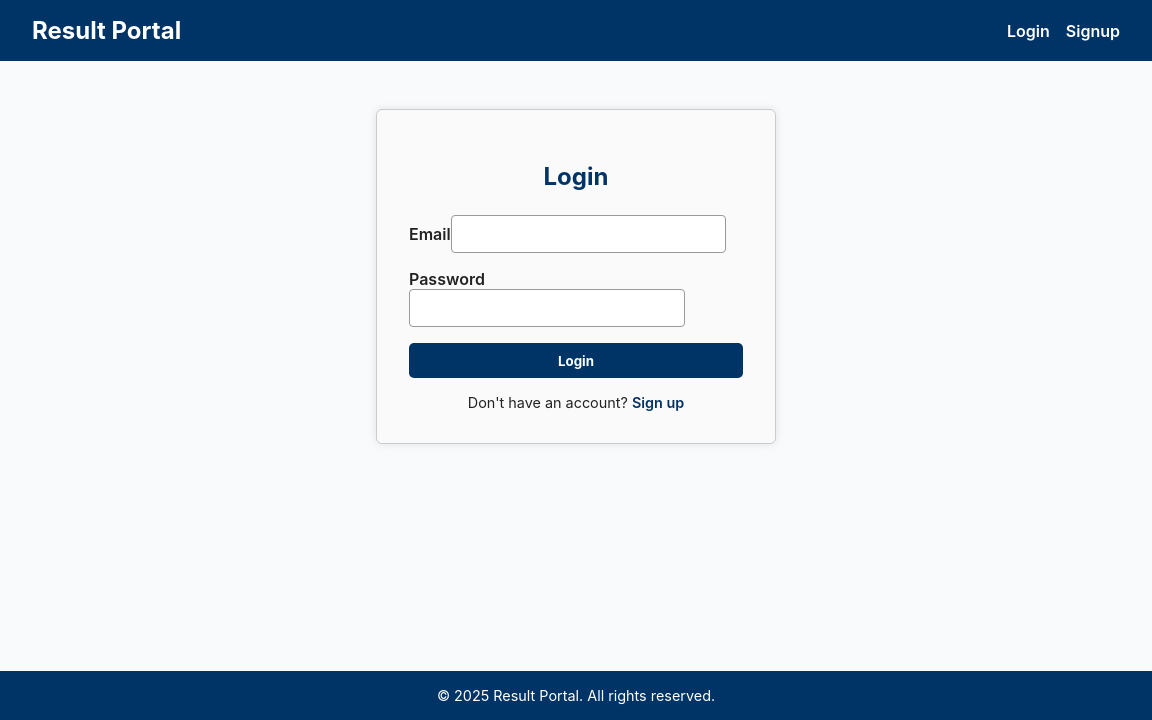
Login Component › shows error message on login failure
In the field labelled "Email": {"x": 588, "y": 234} [451,215,726,253], type "wrong@example.com"
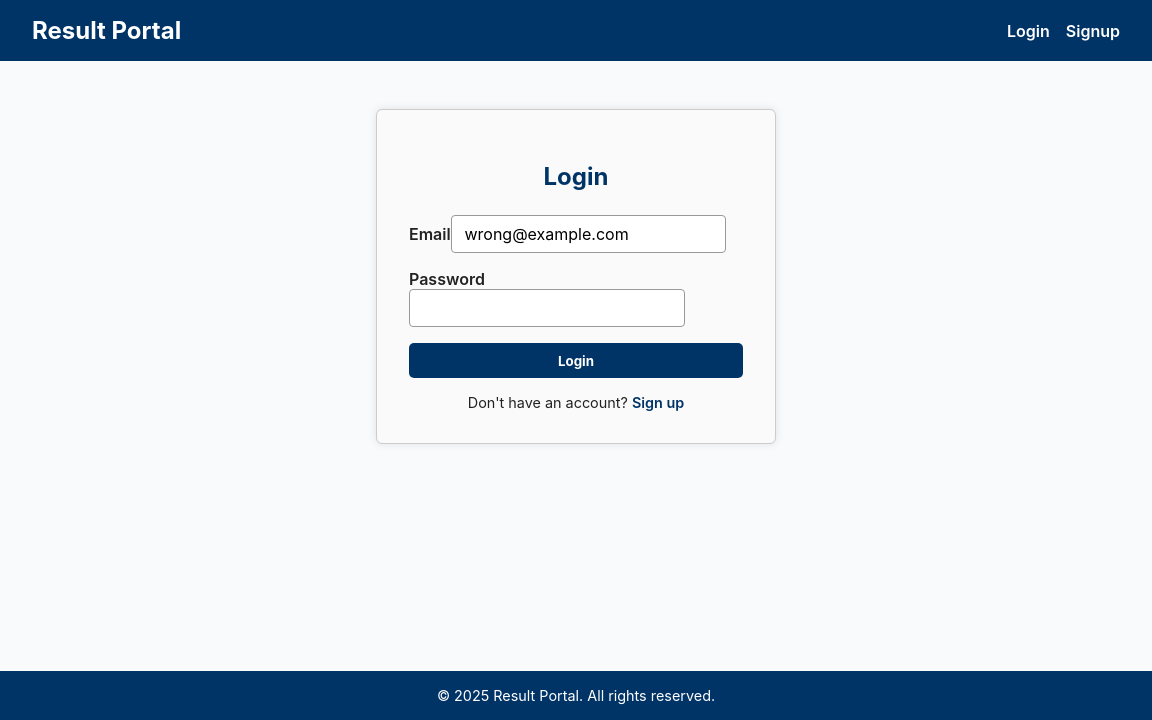
In the password field labelled "Password": {"x": 547, "y": 308} [409,289,685,327], type "wrongpass"
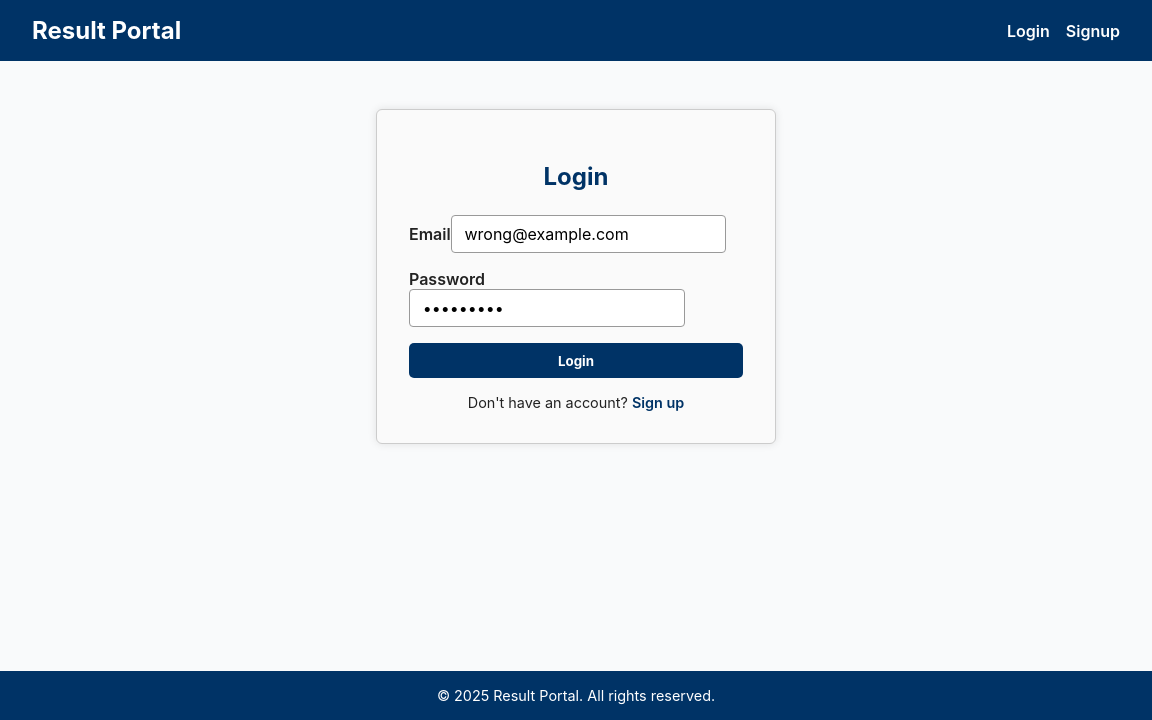
Click the button "Login": {"x": 576, "y": 360} [409,343,743,378]
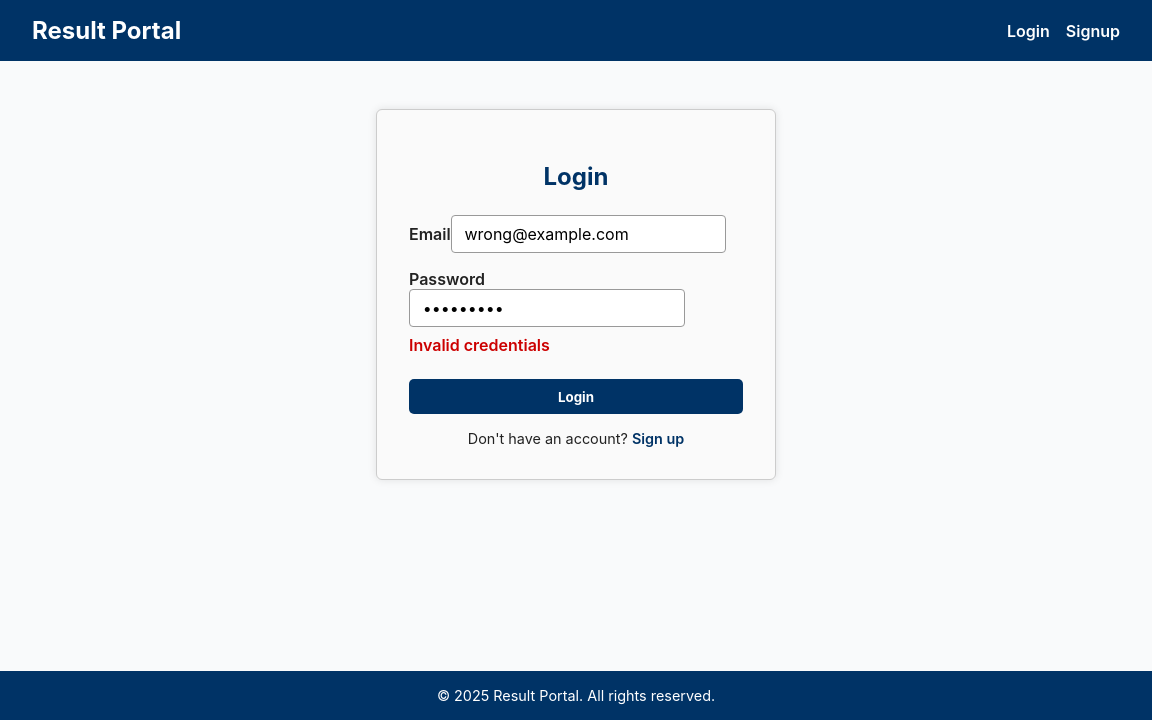
Expected: the message reads "Invalid credentials", [409,335,550,355]
